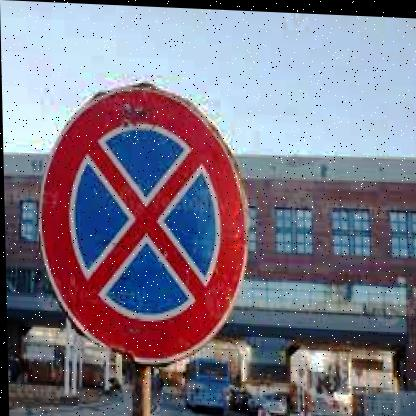No stopping: (32, 76, 253, 375)
